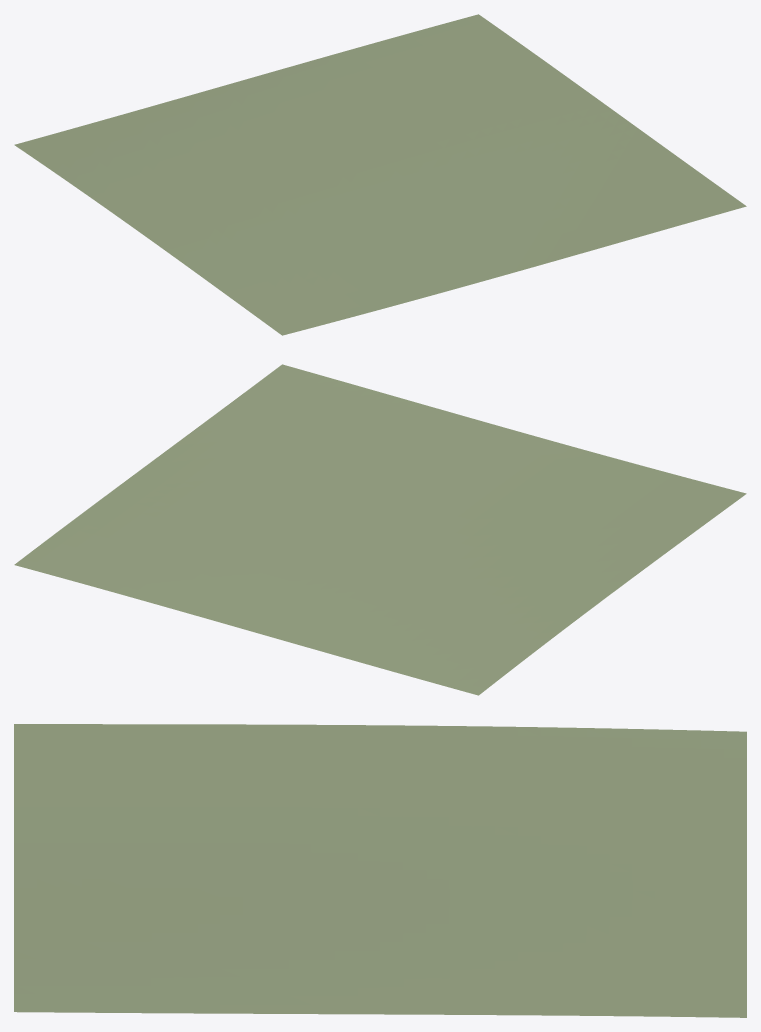
The model's file is expanse-25-1.glb.
3 renders of one model, top to bottom at view 1: azimuth 30°, elevation 25°; view 2: azimuth 150°, elevation 25°; view 3: azimuth 270°, elevation 25°, orthographic. The views are drawn at different scales.
Parts seen in each view (by area): view 1: expanse-25-1; view 2: expanse-25-1; view 3: expanse-25-1.
Boxes of the visible parts, x1,y1,x2,y2 form: expanse-25-1: (14, 14, 746, 335); expanse-25-1: (14, 364, 746, 695); expanse-25-1: (14, 724, 746, 1017).
Bounding box in the file's own units: 256 × 11.31 × 256.
